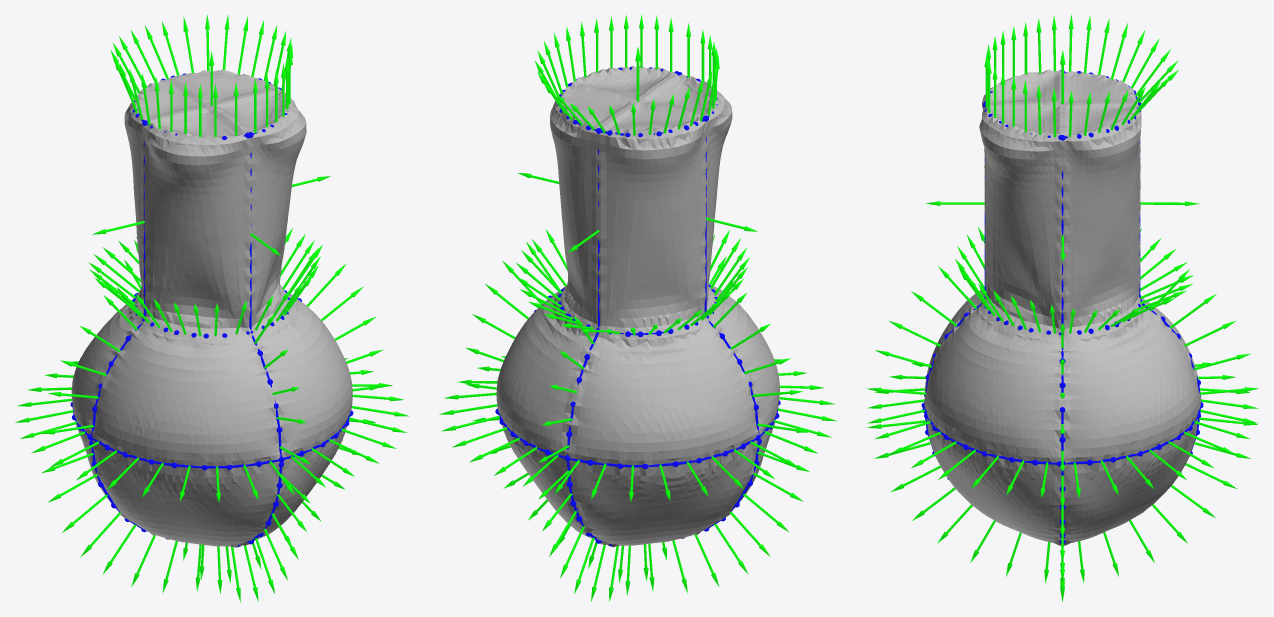
The model's file is flowrep_spherecylinder.gltf.
3 views of the same model, side by side, from view 1: azimuth 30°, elevation 25°; view 2: azimuth 150°, elevation 25°; view 3: azimuth 270°, elevation 25° (orthographic).
Bounding box in the file's own units: 0.6459 × 0.9663 × 0.6459.
